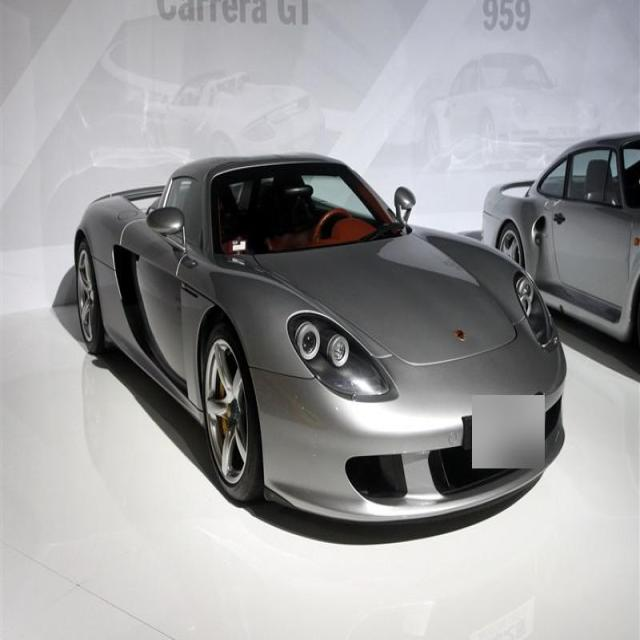front_bumper: (248, 330, 570, 512)
front_glass: (207, 161, 405, 261)
front_left_side_light: (514, 264, 555, 350)
front_left_side_mirror: (394, 177, 418, 234)
front_right_side_door: (117, 165, 205, 412)
front_right_side_light: (283, 307, 394, 401)
front_right_side_mirror: (146, 203, 189, 254)
wheel: (200, 320, 262, 502), (77, 243, 117, 354)
